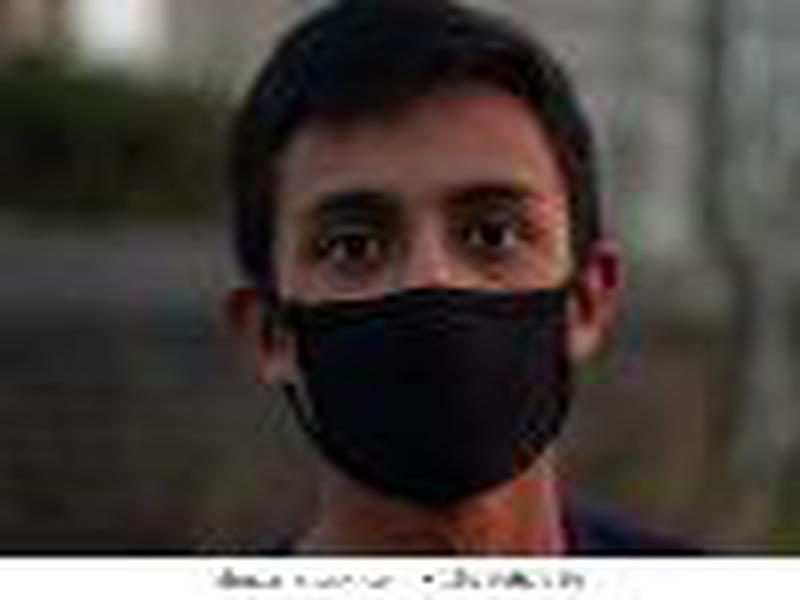with_mask: (262, 92, 583, 507)
